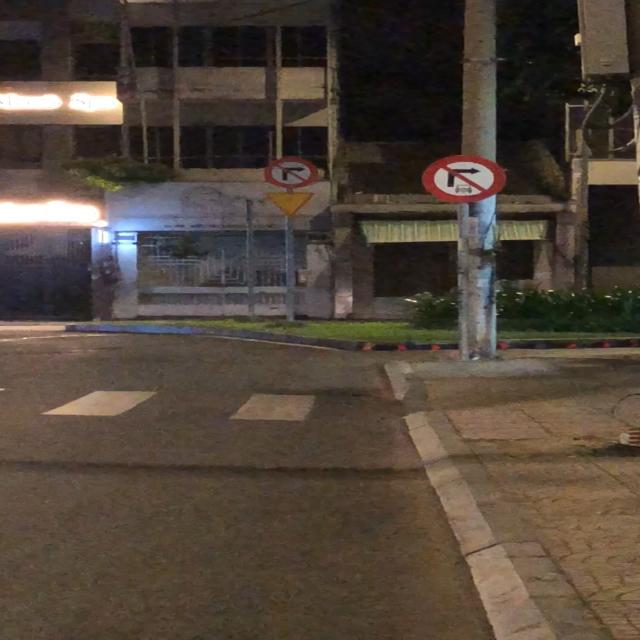Bien bao cam re phai: (264, 156, 322, 189)
Bien bao cam xe o to re phai: (418, 153, 513, 203)
Bien bao giao nhau voi duong uu tien: (261, 190, 321, 217)
